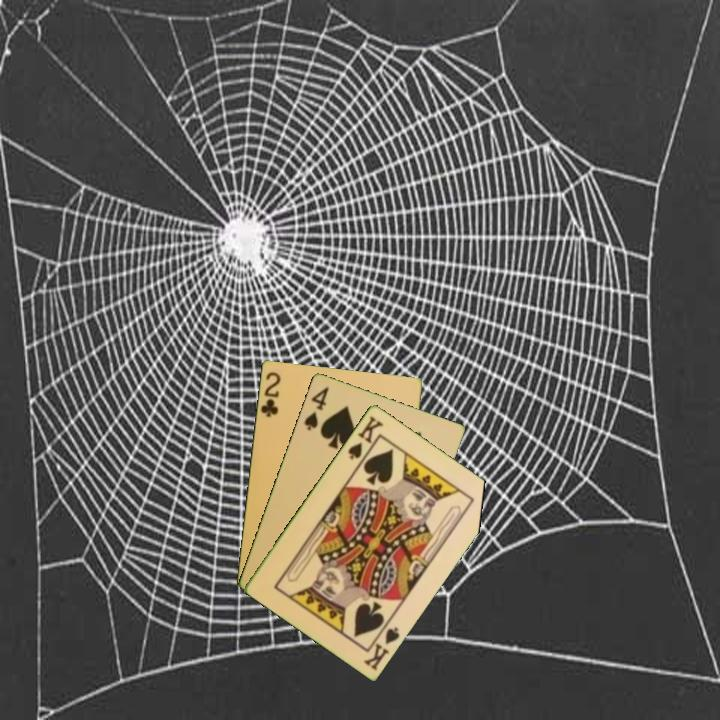2c: (257, 368, 283, 420)
4s: (300, 383, 331, 433)
Ks: (360, 617, 403, 673), (344, 412, 386, 462)
